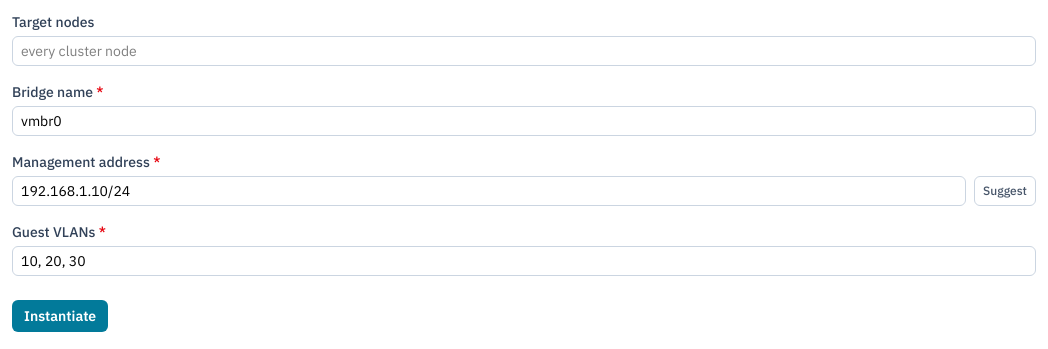
ParamForm › fills the field with a suggested address (AC4)
Click the button "Suggest": (1005, 191) [974,176,1036,206]
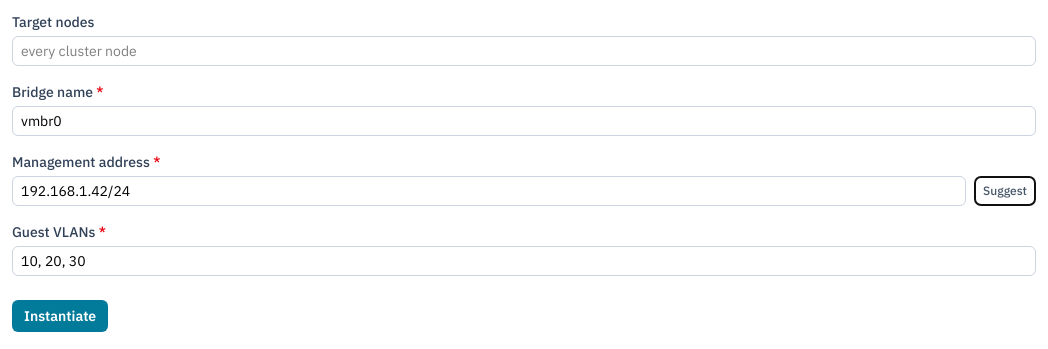
Check: the field labelled "Management address *" holds "192.168.1.42/24", box [12,176,966,206]
